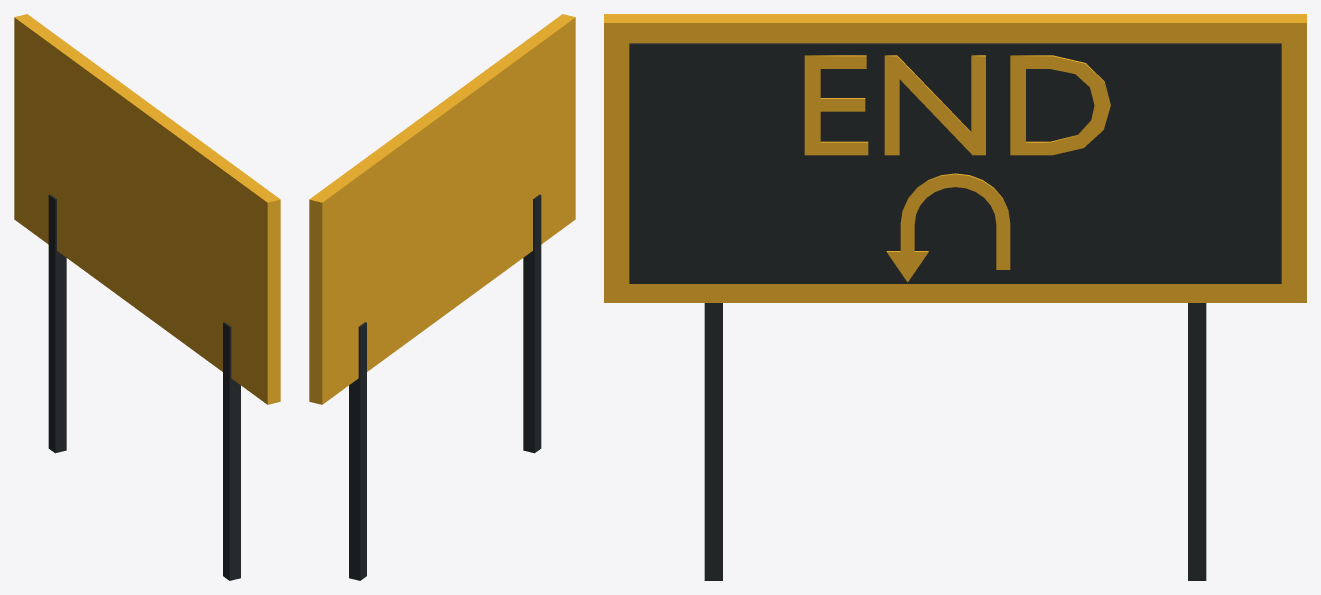
Rendered from RouteEndMarker.glb.
3 renders of one model, left to right at view 1: azimuth 30°, elevation 25°; view 2: azimuth 150°, elevation 25°; view 3: azimuth 270°, elevation 25°, orthographic. The views are drawn at different scales.
Visible parts, largest first — view 1: RouteEndMarker_RouteEndAmber, RouteEndMarker_RouteEndCharcoal; view 2: RouteEndMarker_RouteEndAmber, RouteEndMarker_RouteEndCharcoal; view 3: RouteEndMarker_RouteEndCharcoal, RouteEndMarker_RouteEndAmber.
Part boxes in pixels (x1=…): RouteEndMarker_RouteEndAmber: x1=14, y1=14, x2=280, y2=404; RouteEndMarker_RouteEndCharcoal: x1=48, y1=194, x2=240, y2=580; RouteEndMarker_RouteEndAmber: x1=309, y1=14, x2=575, y2=404; RouteEndMarker_RouteEndCharcoal: x1=349, y1=194, x2=541, y2=580; RouteEndMarker_RouteEndCharcoal: x1=629, y1=43, x2=1281, y2=580; RouteEndMarker_RouteEndAmber: x1=604, y1=14, x2=1306, y2=302.
Size of the model in its own units: 0.1055 by 2.2 by 2.5.
